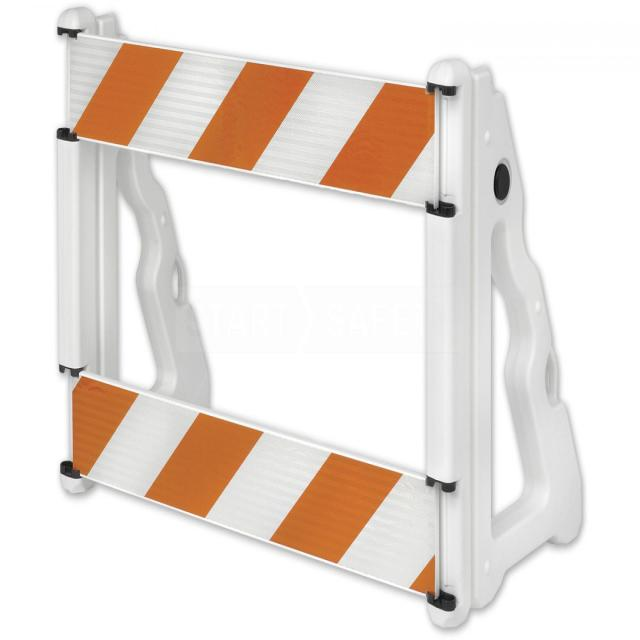cone: (55, 7, 583, 628)
